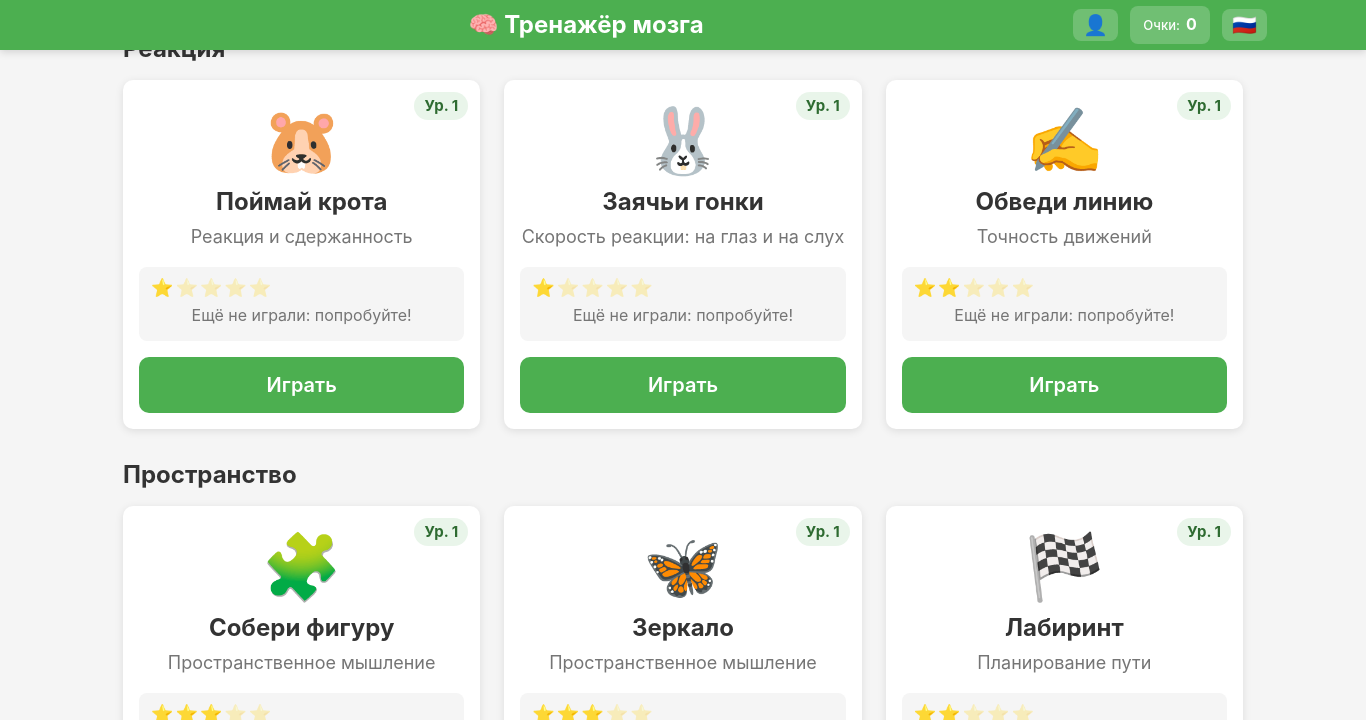
Test case: App › should navigate back to menu from game
The image size is (1366, 720).
(page scrolled)
Переход в игру
Step 1. Click the button "Играть" below "Скорость реакции: на глаз и на слух" → (683, 385), box [520, 357, 846, 413]
(page scrolled)
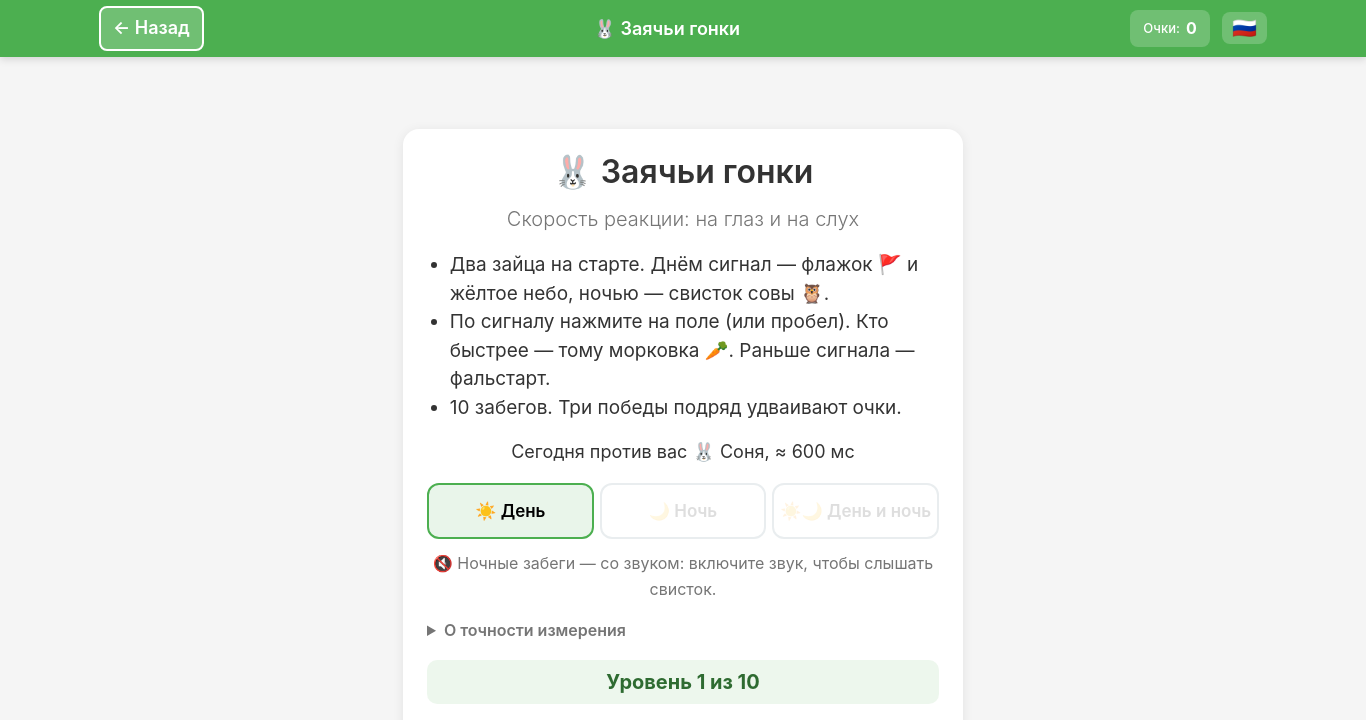
Возврат в меню
Step 2. Click the button with class "back-button" → (151, 28), box [99, 6, 204, 51]
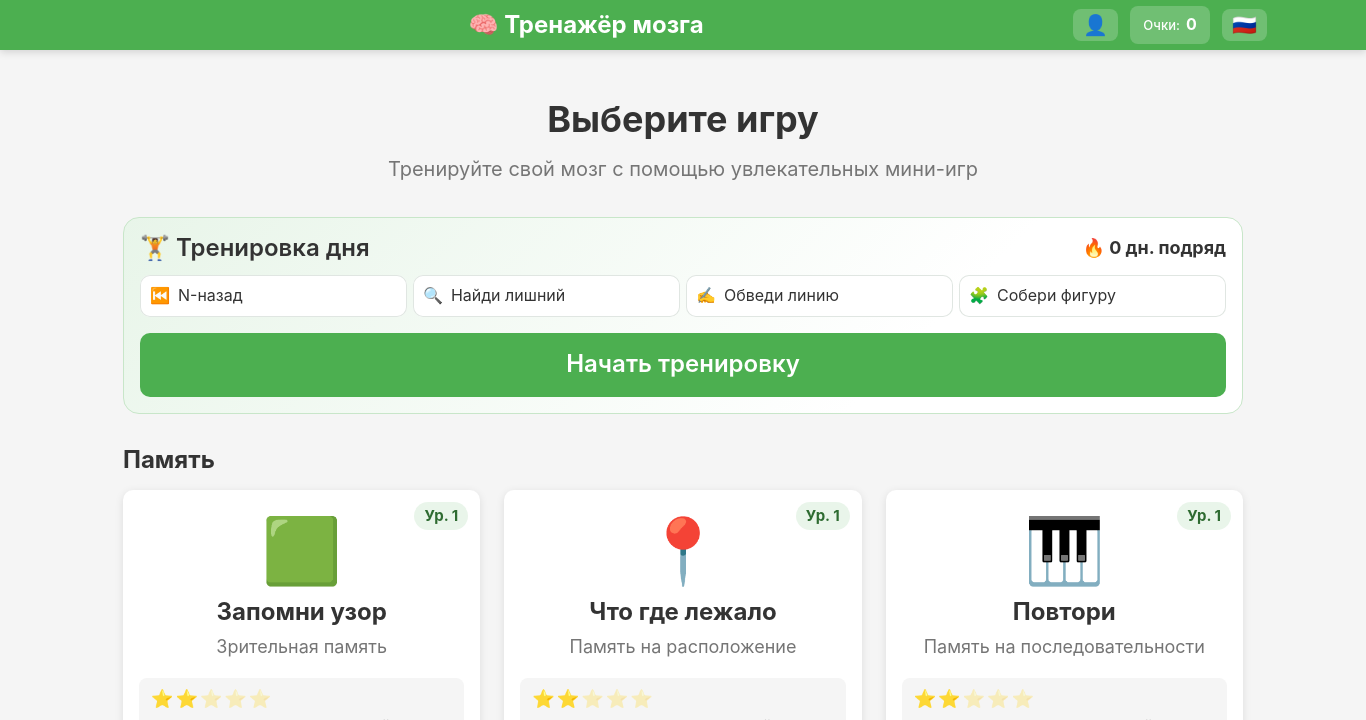
Check: the heading "Выберите игру" is shown, box [547, 97, 819, 141]
